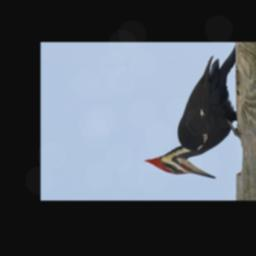Woodpecker: (140, 56, 239, 180)
